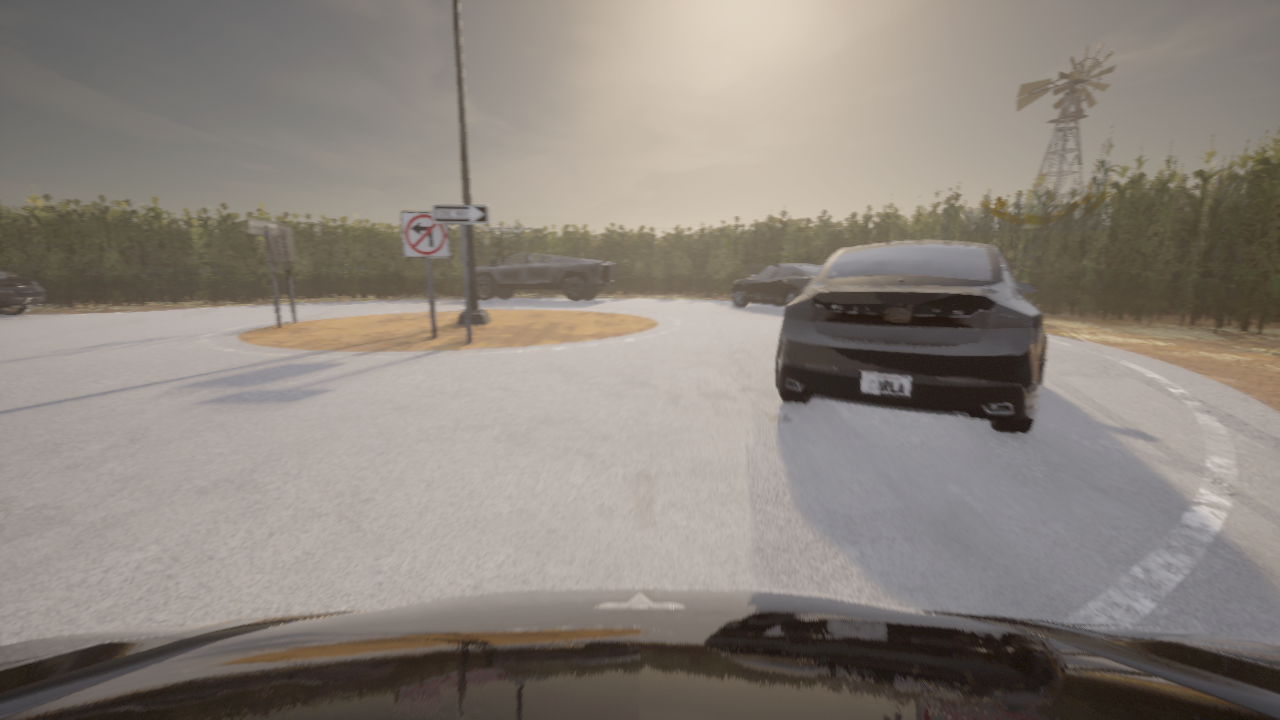cyclist: (0, 588, 1279, 719), (776, 240, 1046, 434), (476, 252, 613, 301), (732, 262, 821, 306)
